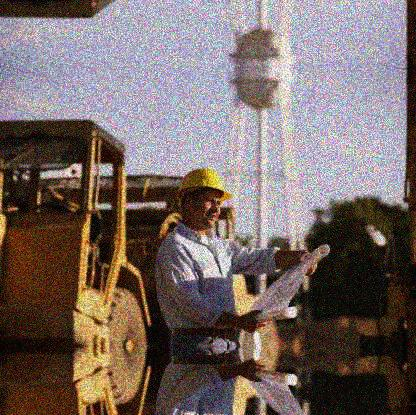helmet: (174, 168, 231, 230)
